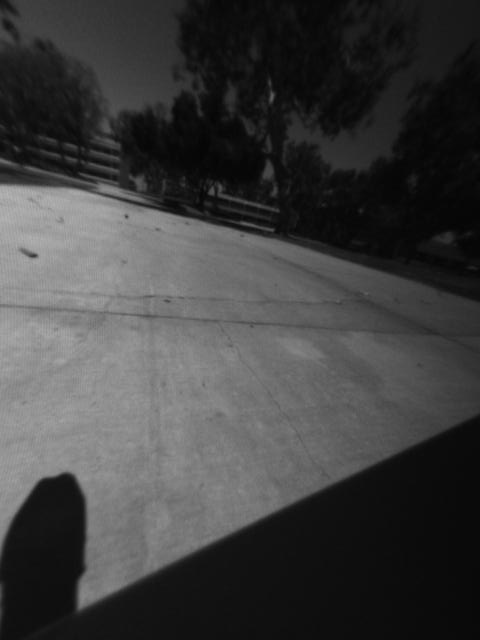dogtoy: (117, 204, 140, 227)
